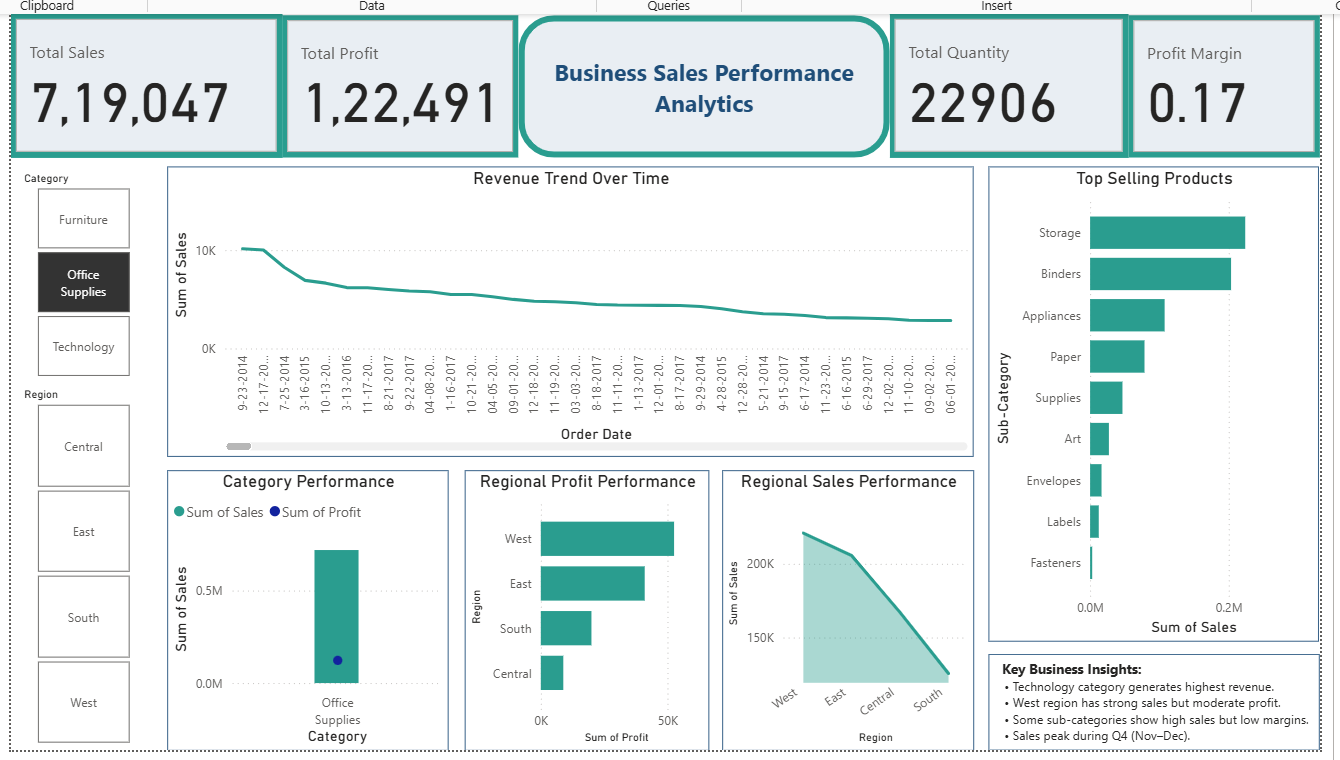

What the dashboard file says about the page in this screenshot:
{"tool":"powerbi","page":{"name":"Page 1","canvas":[1280,720],"ordinal":0},"visuals":[{"type":"cardVisual","fields":{"Data":["all measures (2).Total Sales"]},"box":[0,0,265.4,140.6],"z":0},{"type":"cardVisual","fields":{"Data":["all measures (2).Total Profit"]},"box":[265.4,1.2,231.1,139.4],"z":1000},{"type":"cardVisual","fields":{"Data":["all measures (2).Total Quantity"]},"box":[859.6,0,233.6,140.6],"z":2000},{"type":"cardVisual","fields":{"Data":["all measures (2).Profit Margin"]},"box":[1093.2,1.2,187.1,139.4],"z":3000},{"type":"lineChart","title":"Revenue Trend Over Time","fields":{"Category":["Sample - Superstore.Order Date"],"Y":["Sum(Sample - Superstore.Sales)"]},"box":[152.9,148.6,789.2,284.2],"z":4000},{"type":"clusteredBarChart","title":"Top Selling Products","fields":{"Category":["Sample - Superstore.Sub-Category"],"Y":["Sum(Sample - Superstore.Sales)"]},"box":[956.5,148.6,323.2,464.6],"z":5000},{"type":"areaChart","title":"Regional Sales Performance","fields":{"Category":["Sample - Superstore.Region"],"Y":["Sum(Sample - Superstore.Sales)"]},"box":[695.4,445.8,246.7,274.1],"z":6000},{"type":"barChart","title":"Regional Profit Performance","fields":{"Category":["Sample - Superstore.Region"],"Y":["Sum(Sample - Superstore.Profit)"]},"box":[444.4,445.8,239.5,274.1],"z":7000},{"type":"lineStackedColumnComboChart","title":"Category Performance ","fields":{"Y":["Sum(Sample - Superstore.Sales)"],"Y2":["Sum(Sample - Superstore.Profit)"],"Category":["Sample - Superstore.Category"]},"box":[152.9,445.8,275.6,274.1],"z":8000},{"type":"slicer","fields":{"Values":["Sample - Superstore.Region"]},"box":[0,360.7,139.9,359.2],"z":9000},{"type":"slicer","fields":{"Values":["Sample - Superstore.Category"]},"box":[0,148.6,139.9,212.1],"z":10000},{"type":"textbox","box":[956.3,626.1,324.1,94.2],"z":11000},{"type":"shape","box":[496.5,1.2,363.2,139.4],"z":11001}]}

Visuals, with their boxes in screenshot pixels (x1, y1, x2, y2):
cardVisual - all measures (2).Total Sales: bbox(0, 7, 274, 152)
cardVisual - all measures (2).Total Profit: bbox(274, 8, 513, 152)
cardVisual - all measures (2).Total Quantity: bbox(887, 7, 1129, 152)
cardVisual - all measures (2).Profit Margin: bbox(1129, 8, 1322, 152)
"Revenue Trend Over Time" lineChart: bbox(158, 160, 973, 454)
"Top Selling Products" clusteredBarChart: bbox(987, 160, 1321, 640)
"Regional Sales Performance" areaChart: bbox(718, 467, 973, 750)
"Regional Profit Performance" barChart: bbox(459, 467, 706, 750)
"Category Performance " lineStackedColumnComboChart: bbox(158, 467, 442, 750)
slicer - Sample - Superstore.Region: bbox(0, 379, 144, 750)
slicer - Sample - Superstore.Category: bbox(0, 160, 144, 379)
textbox: bbox(987, 653, 1322, 751)
shape: bbox(513, 8, 888, 152)
